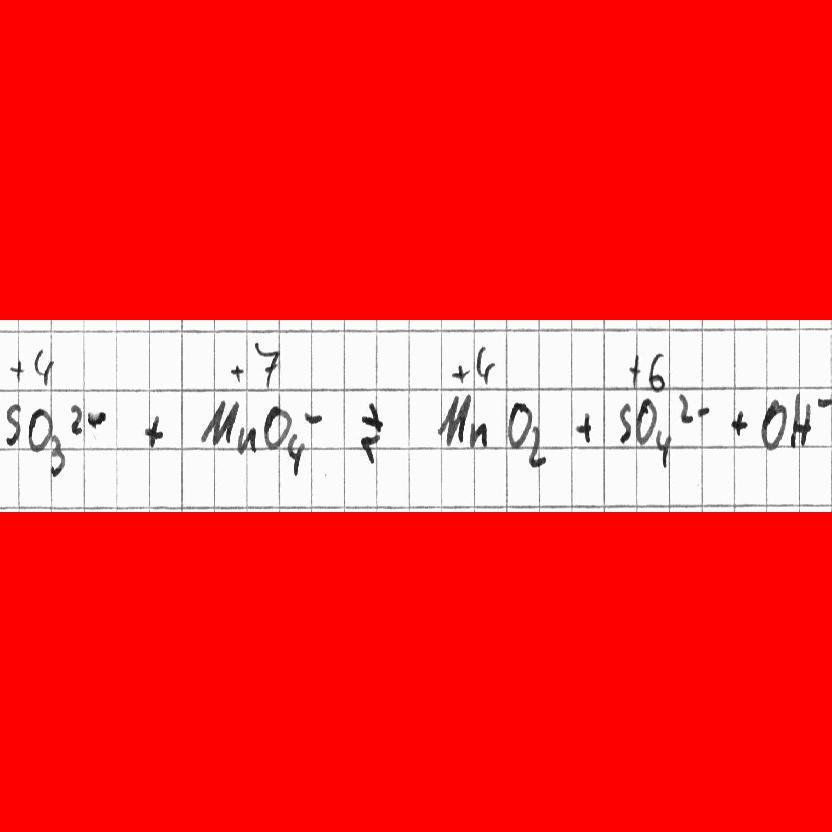Char: (356, 398, 384, 468), (200, 398, 236, 448), (437, 392, 469, 446), (505, 398, 533, 452), (760, 397, 786, 450), (252, 338, 279, 388), (262, 403, 289, 450), (790, 396, 813, 449), (26, 406, 53, 449), (526, 423, 549, 469), (473, 343, 497, 384), (634, 399, 654, 445), (2, 401, 22, 446), (32, 347, 54, 385), (286, 432, 304, 478), (49, 432, 66, 478), (142, 410, 163, 447), (648, 351, 666, 391), (655, 428, 671, 470), (236, 424, 257, 454), (576, 409, 594, 443), (617, 403, 632, 442), (676, 392, 694, 424), (469, 417, 487, 449), (728, 408, 747, 438), (627, 354, 643, 386), (86, 408, 107, 431), (69, 403, 83, 436), (304, 408, 324, 428), (450, 361, 469, 382), (8, 359, 26, 381), (228, 362, 245, 382), (695, 404, 712, 420), (817, 392, 830, 412)
